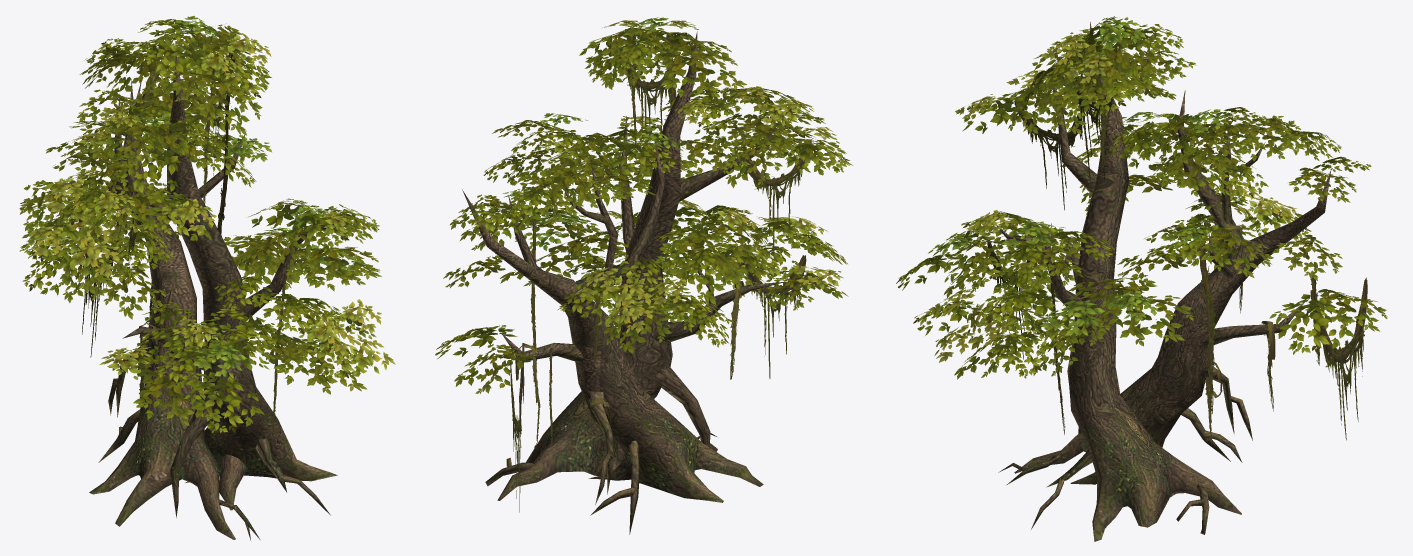
File: wlf_shu03_w.FBX
3 renders of one model, left to right at view 1: azimuth 30°, elevation 25°; view 2: azimuth 150°, elevation 25°; view 3: azimuth 270°, elevation 25°, orthographic. The views are drawn at different scales.
Visible parts, largest first — view 1: wlf_shu03_w; view 2: wlf_shu03_w; view 3: wlf_shu03_w.
Boxes of the visible parts, box(x1,y1,x2,y2) form: wlf_shu03_w: box(19, 16, 395, 540); wlf_shu03_w: box(435, 17, 853, 534); wlf_shu03_w: box(896, 16, 1387, 541).
Size of the model in its own units: 4.77 by 6.36 by 6.35.
